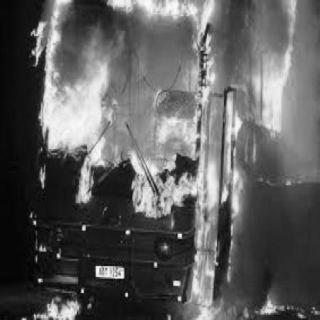Fire: (26, 0, 317, 314)
